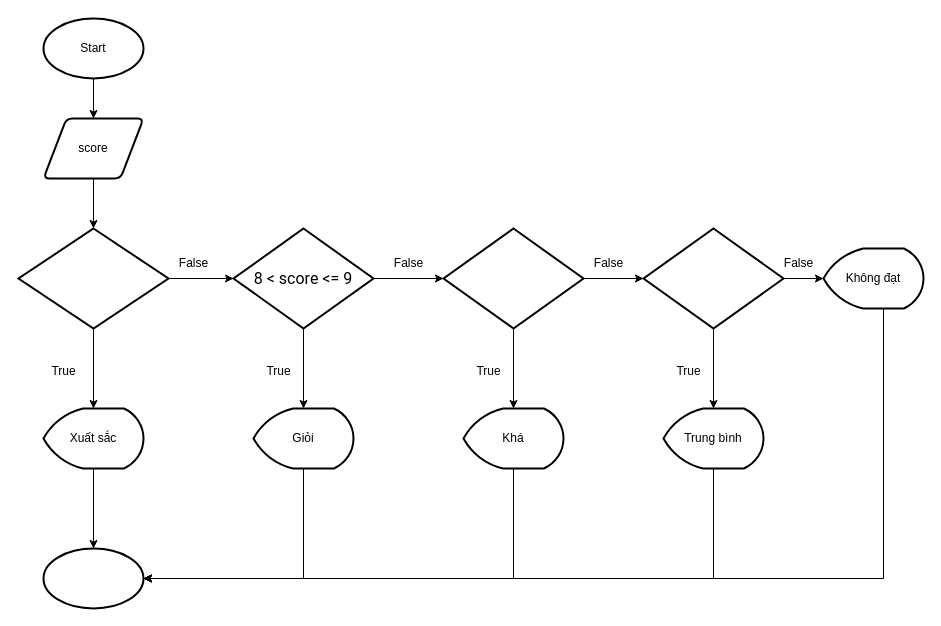
Image size: 941x626. Some labels were removed from this diagram. Each missing label, with the centre of its shape:
4 <= score <= 6: pixel 713 278
6 < score <= 8: pixel 513 278
9 < score <=10: pixel 93 278
End: pixel 93 578
